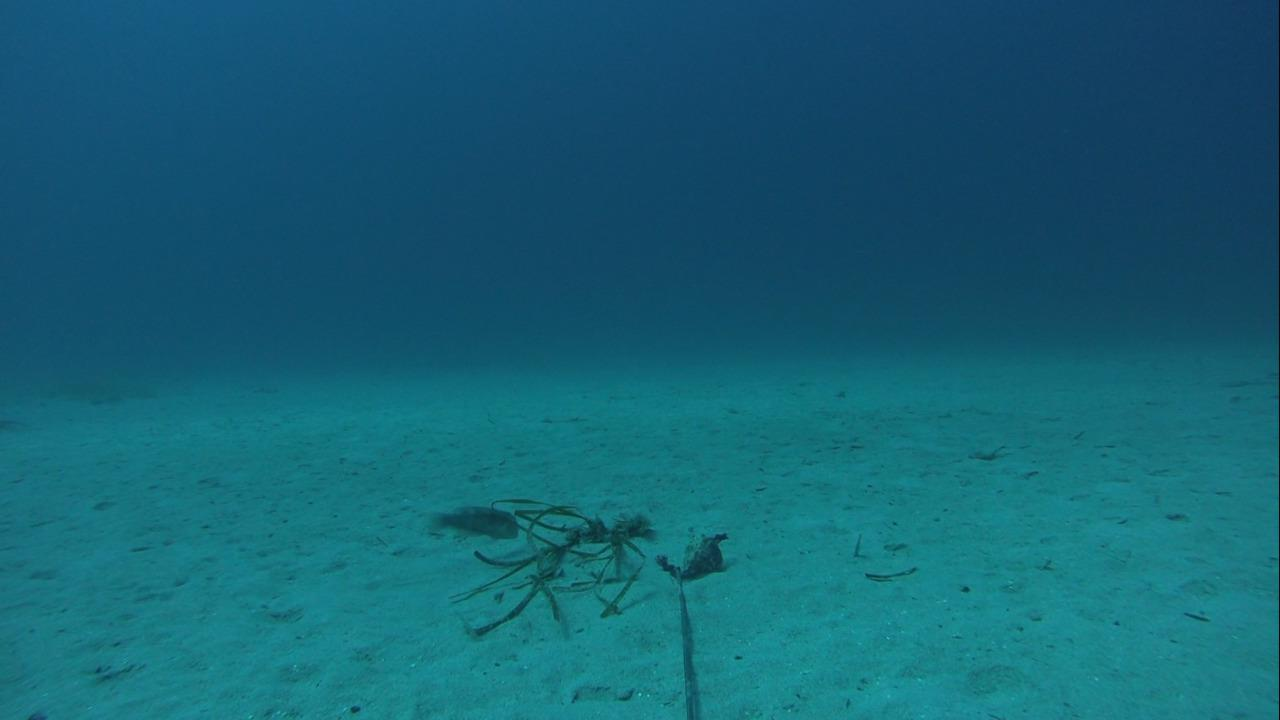raor: (424, 499, 523, 543)
